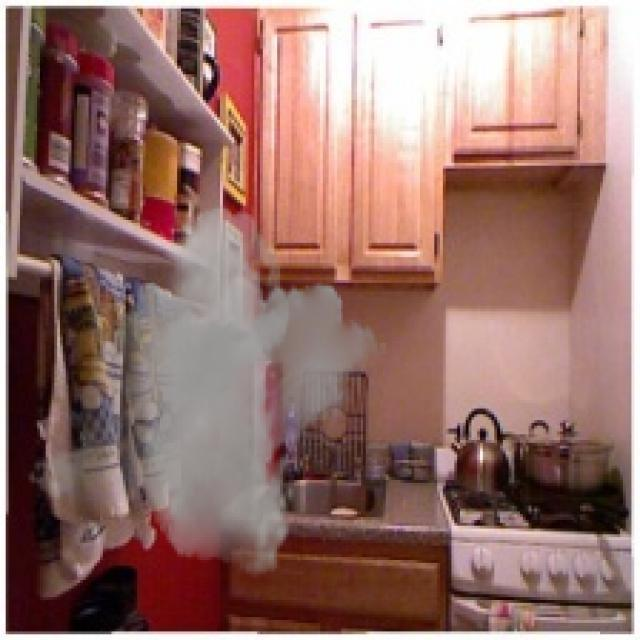Smoke: (26, 205, 388, 578)
